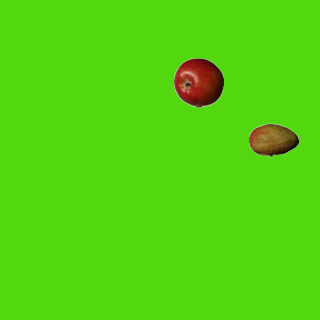Apple Braeburn: (173, 57, 223, 107)
Papaya: (248, 115, 298, 165)
